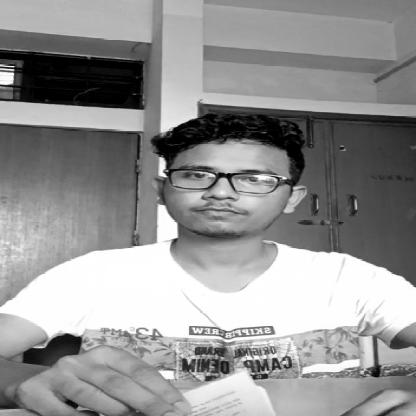Normal: (148, 107, 326, 254)
